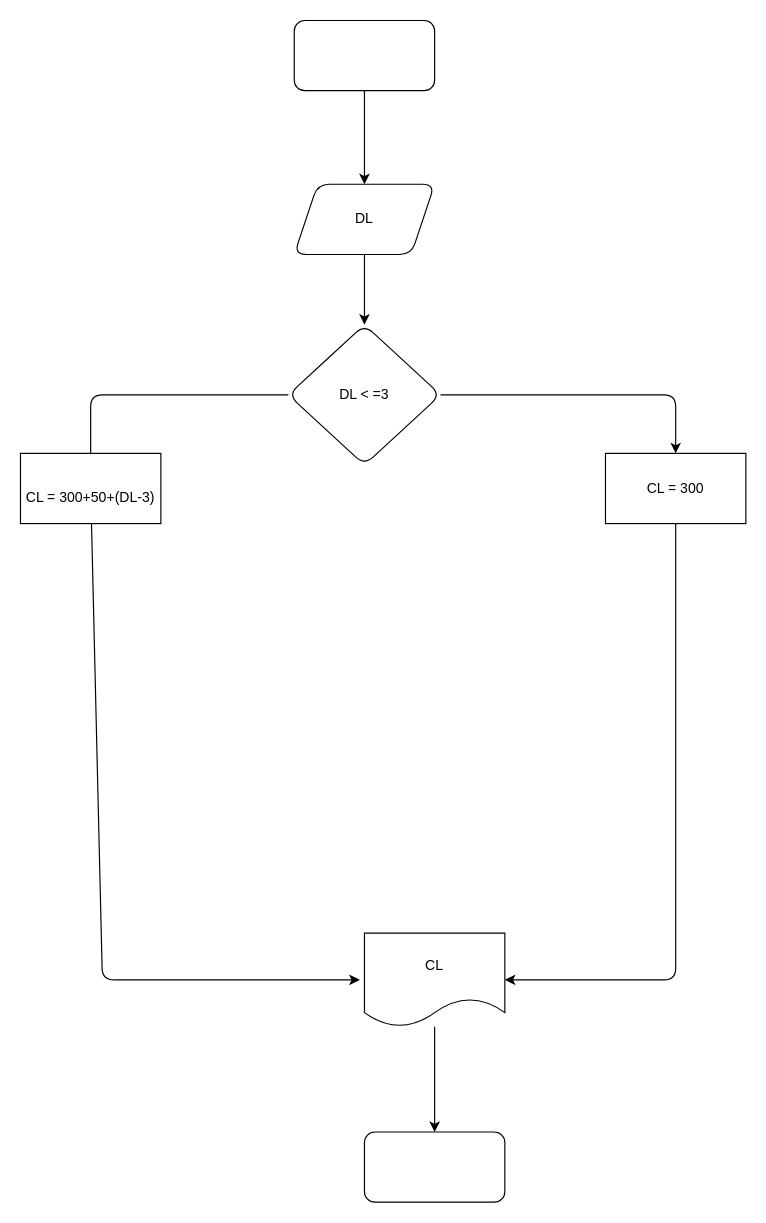
Image size: 766x1223. Some labels were removed from this diagram. The centre of each missing label's shape, as x and y in pixels:
FIN: the point at 434,1166
INICIO: the point at 364,55
